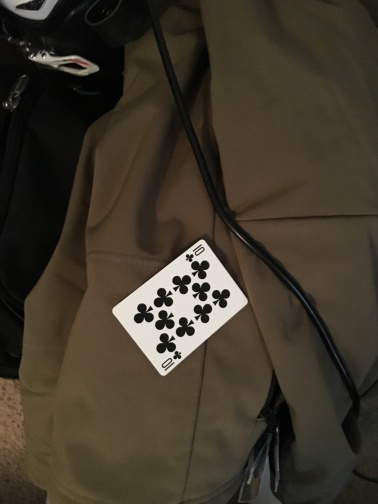ten: (110, 235, 250, 378)
